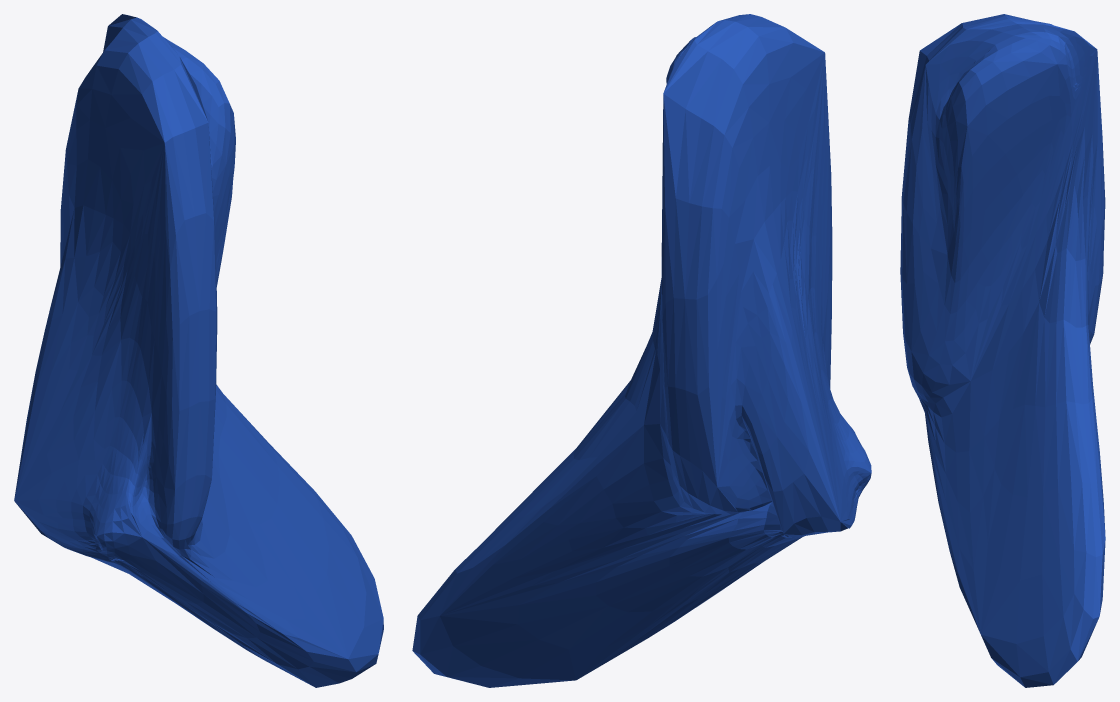
3 renders of one model, left to right at view 1: azimuth 30°, elevation 25°; view 2: azimuth 150°, elevation 25°; view 3: azimuth 270°, elevation 25°, orthographic. The views are drawn at different scales.
Parts seen in each view (by area): view 1: 576_Cube.2319; view 2: 576_Cube.2319; view 3: 576_Cube.2319.
Boxes of the visible parts, x1=… form: 576_Cube.2319: x1=14, y1=14, x2=383, y2=687; 576_Cube.2319: x1=412, y1=14, x2=871, y2=687; 576_Cube.2319: x1=900, y1=14, x2=1105, y2=687.
Size of the model in its own units: 10.27 by 17.53 by 5.66.
